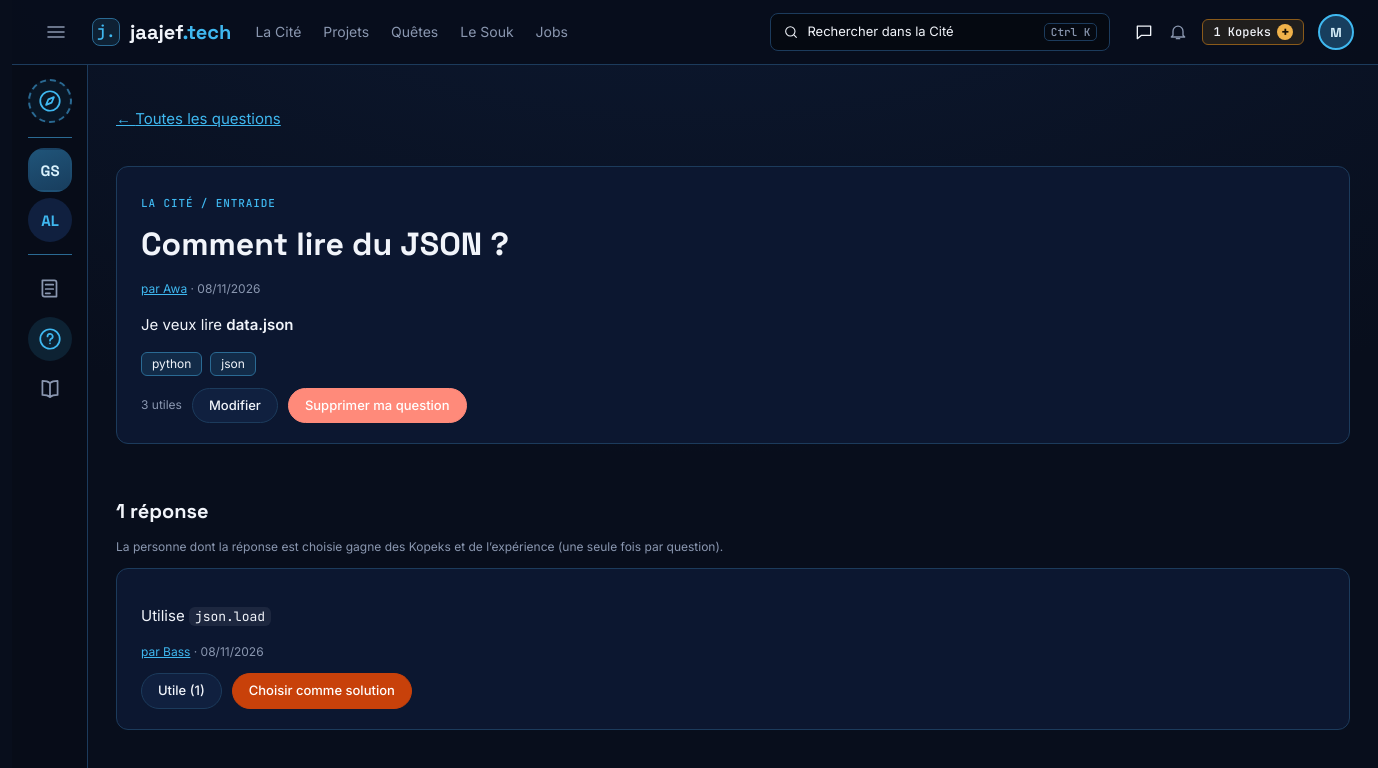
Test case: A question › the asker can delete the question after confirming
Click the button "Supprimer ma question" at (377, 405), box [288,388,466,423]
(page scrolled)
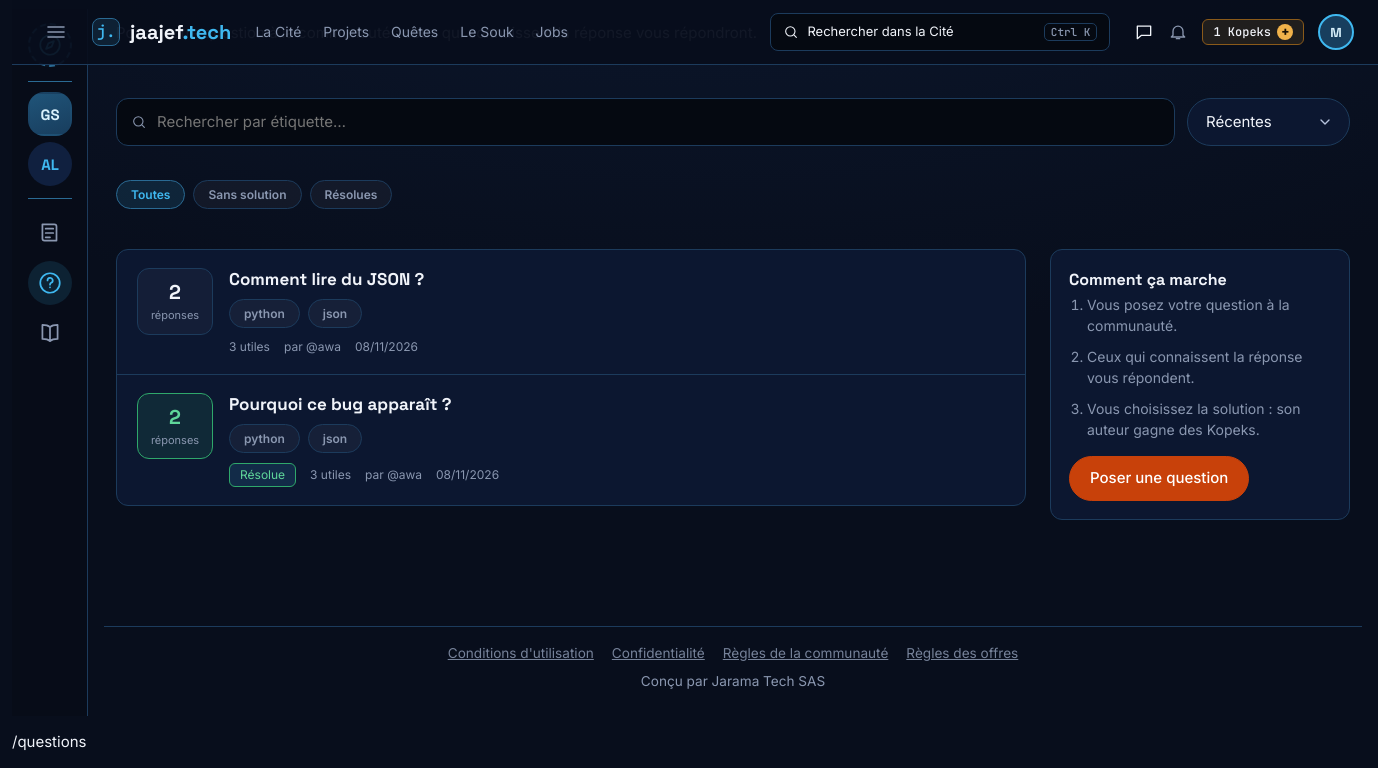
Expected: the text with test id "where" reads "/questions", [12,732,86,751]
